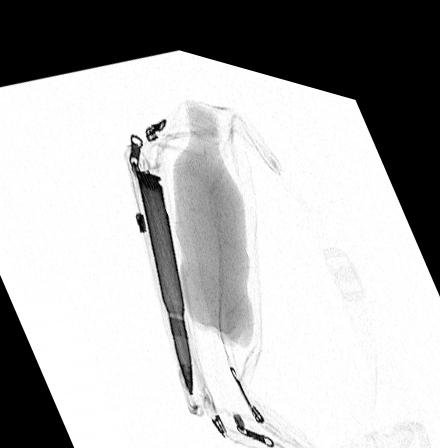Bullet: (133, 163, 192, 385)
